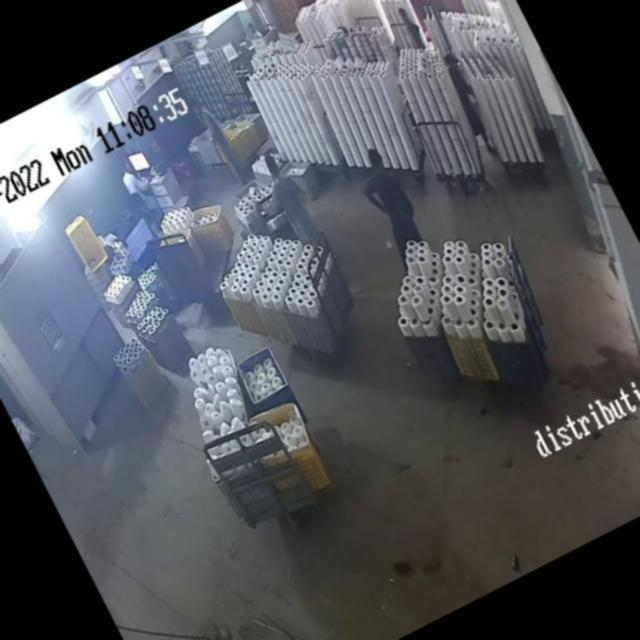person: (188, 92, 261, 202), (253, 142, 325, 250), (352, 142, 424, 238), (118, 164, 150, 204)
